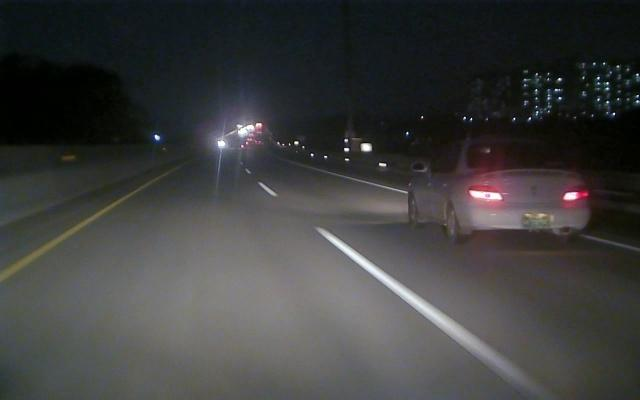lane: (255, 180, 546, 389), (313, 168, 640, 253), (1, 192, 133, 282)
